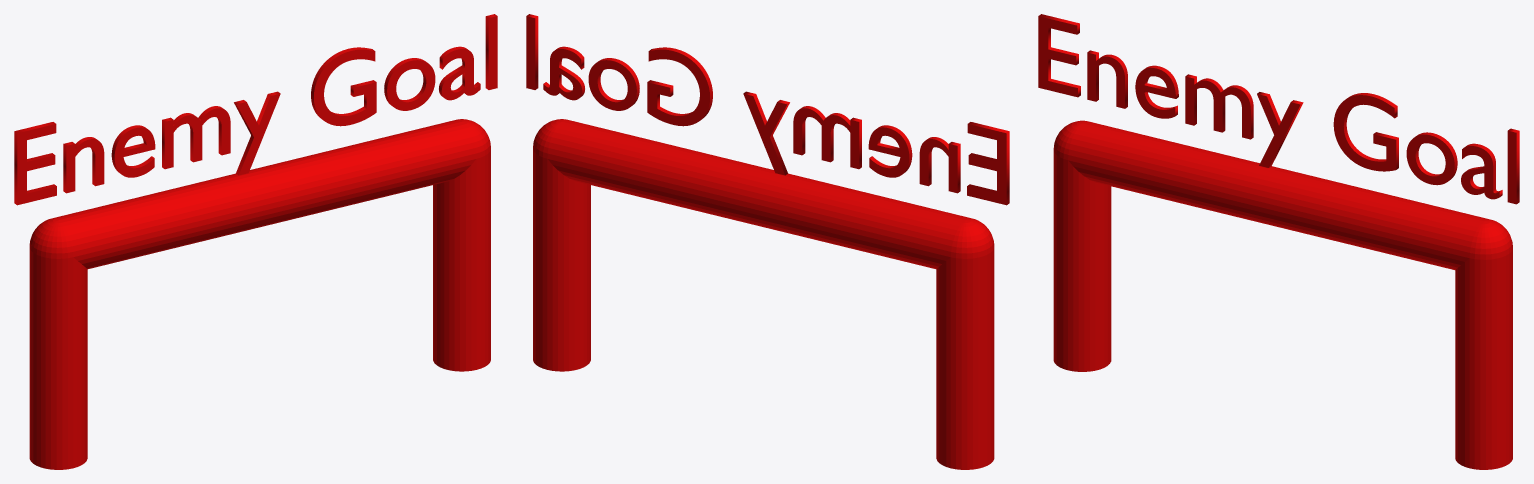
Rendered from enemy_goal.dae.
The picture shows the model from 3 angles, left to right: view 1: azimuth 30°, elevation 25°; view 2: azimuth 150°, elevation 25°; view 3: azimuth 330°, elevation 25°; orthographic projection.
Visible parts, largest first — view 1: Cylinder_002, Text, Cylinder_001, Cylinder, Sphere_001, Sphere; view 2: Cylinder_002, Text, Cylinder_001, Cylinder, Sphere_001, Sphere; view 3: Cylinder_002, Text, Cylinder, Cylinder_001, Sphere, Sphere_001.
Boxes of the visible parts, <box> form: Cylinder_002: <box>53,119,476,269</box>; Text: <box>14,14,497,205</box>; Cylinder_001: <box>29,248,87,469</box>; Cylinder: <box>433,150,490,371</box>; Sphere_001: <box>29,218,72,258</box>; Sphere: <box>457,119,490,158</box>; Cylinder_002: <box>547,119,970,269</box>; Text: <box>526,14,1009,205</box>; Cylinder_001: <box>936,248,994,469</box>; Cylinder: <box>533,150,590,371</box>; Sphere_001: <box>951,218,994,258</box>; Sphere: <box>533,119,566,158</box>; Cylinder_002: <box>1068,121,1488,269</box>; Text: <box>1038,14,1519,204</box>; Cylinder: <box>1455,249,1512,469</box>; Cylinder_001: <box>1053,151,1111,371</box>; Sphere: <box>1469,219,1512,259</box>; Sphere_001: <box>1053,120,1086,159</box>.
Size of the model in its own units: 1.91 by 0.2 by 1.28.
